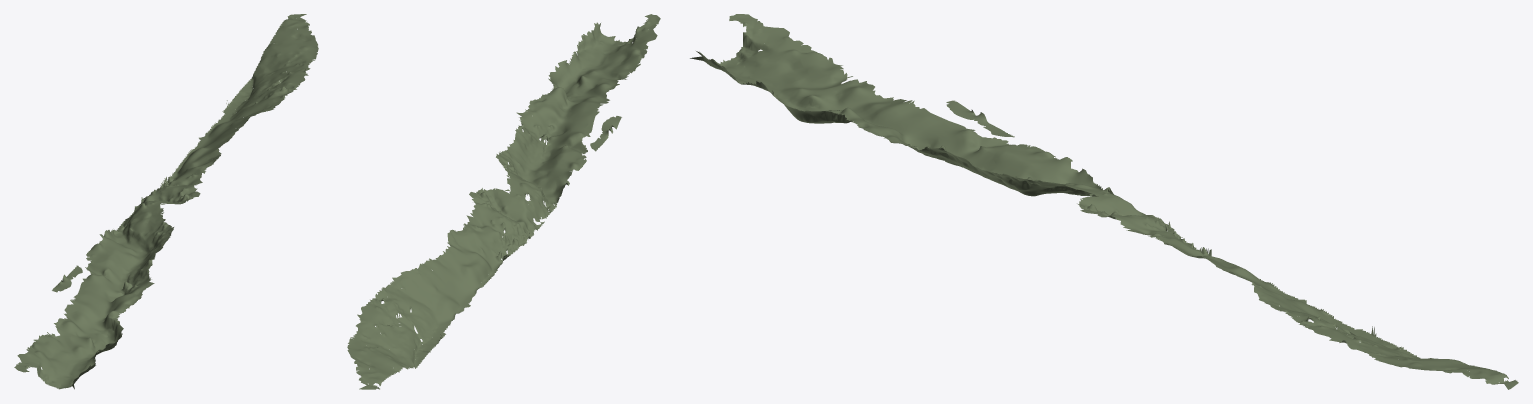
Rendered from RiverBed.fbx.
The picture shows the model from 3 angles, left to right: view 1: azimuth 30°, elevation 25°; view 2: azimuth 210°, elevation 25°; view 3: azimuth 270°, elevation 25°; orthographic projection. The views are drawn at different scales.
Parts seen in each view (by area): view 1: a1Map; view 2: a1Map; view 3: a1Map.
Boxes of the visible parts, left/top/right/bottom form: a1Map: left=14, top=14, right=318, bottom=389; a1Map: left=347, top=14, right=660, bottom=389; a1Map: left=690, top=14, right=1518, bottom=389.
Size of the model in its own units: 28491 by 1462 by 26873.
